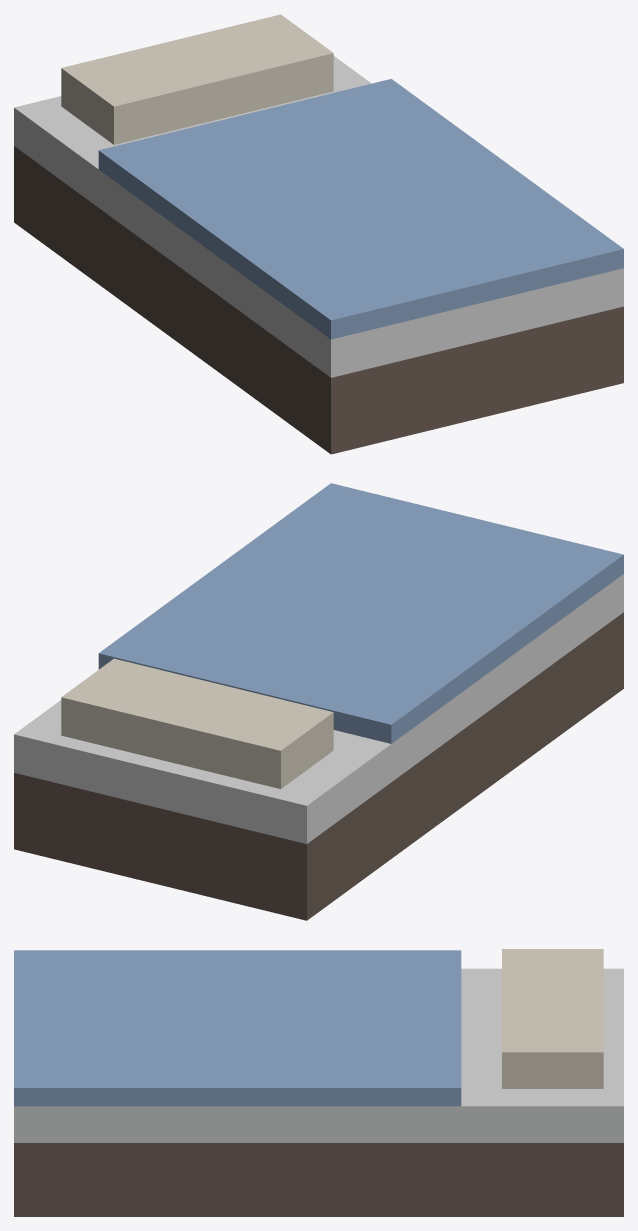
The model's file is lit.glb.
3 renders of one model, top to bottom at view 1: azimuth 30°, elevation 25°; view 2: azimuth 150°, elevation 25°; view 3: azimuth 270°, elevation 25°, orthographic. The views are drawn at different scales.
Visible parts, largest first — view 1: main; view 2: main; view 3: main.
Part boxes in pixels (x1,y1,x2,y2): main: (14, 14, 623, 454); main: (14, 483, 623, 920); main: (14, 949, 623, 1216).
Size of the model in its own units: 1 by 0.5 by 1.88.
